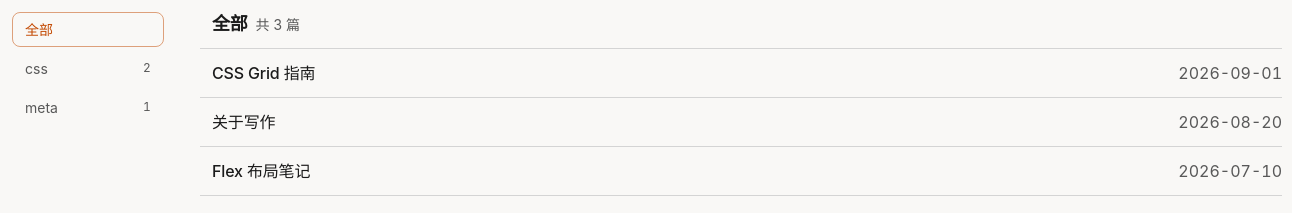
Test: PostsExplorer 正常渲染 › 点击「全部」取消筛选，恢复完整列表
Click the button "meta 1". click: {"x": 88, "y": 108}
box: [12,90,164,125]
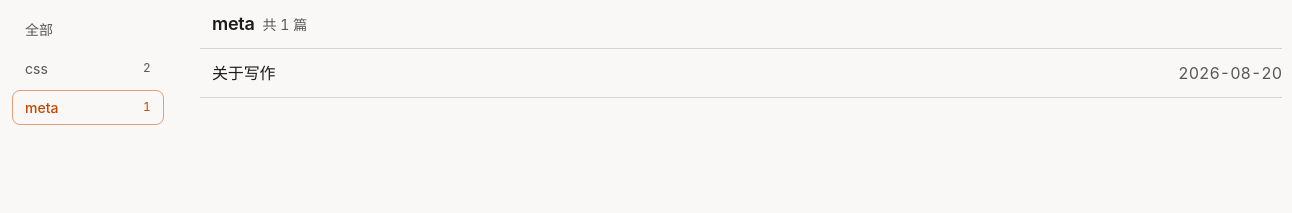
Click the button "全部". click: {"x": 88, "y": 30}
box: [12,12,164,47]
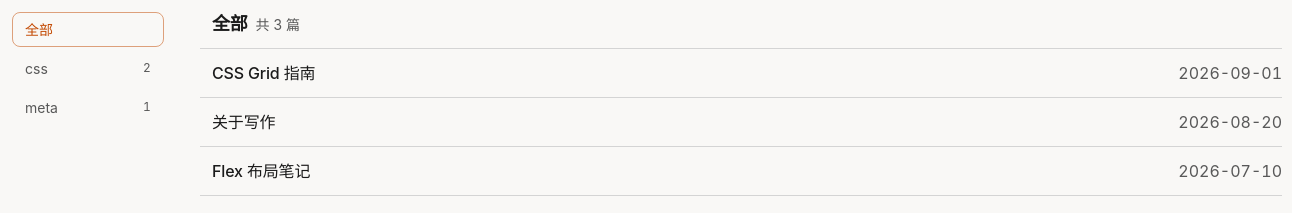
Expected: the link "关于写作" is shown, [212,112,275,132]
Result: the link "CSS Grid 指南" is shown at [212,63,315,83]
Result: the link "Flex 布局笔记" is shown at [212,161,310,181]
